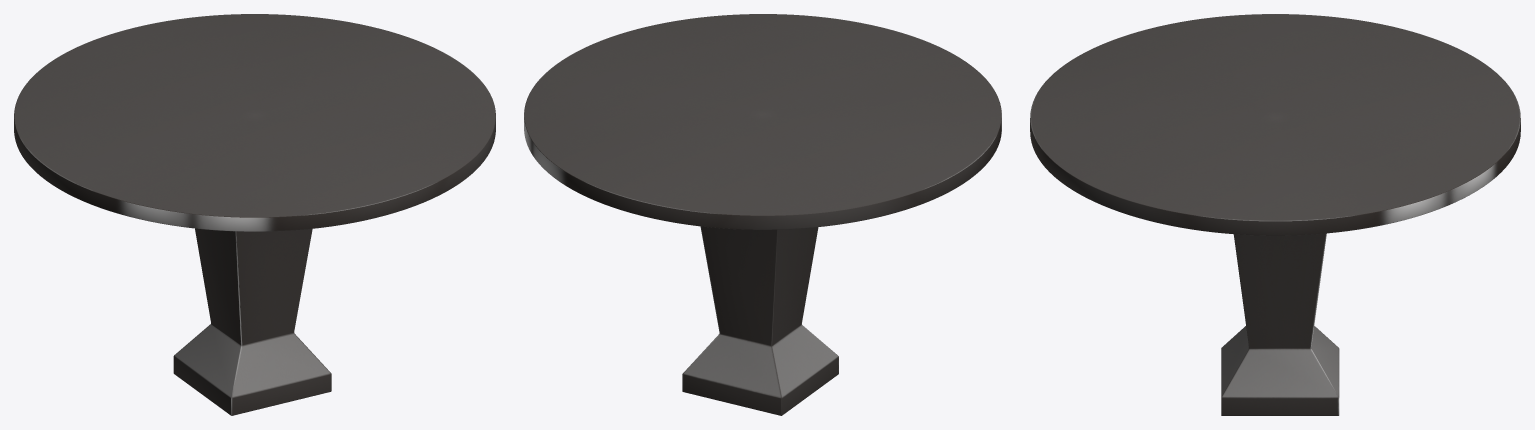
Rendered from raw_model.obj.
3 views of the same model, side by side, from view 1: azimuth 30°, elevation 25°; view 2: azimuth 150°, elevation 25°; view 3: azimuth 270°, elevation 25° (orthographic). The views are drawn at different scales.
Parts seen in each view (by area): view 1: solid; view 2: solid; view 3: solid.
Part boxes in pixels (left/top/right/bottom): solid: left=14, top=14, right=495, bottom=415; solid: left=524, top=14, right=1001, bottom=415; solid: left=1030, top=14, right=1520, bottom=415.
Size of the model in its own units: 1.2 by 0.7389 by 1.2.
Materials: 1 (1 with a texture image).
